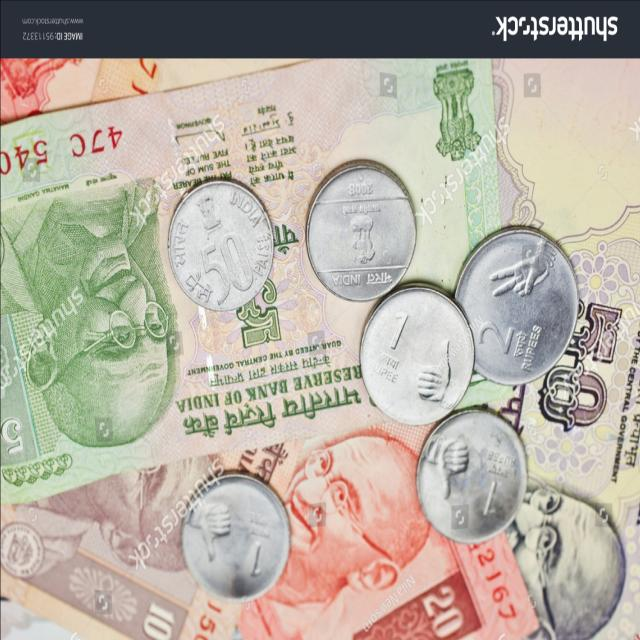5IndianRupees: (0, 73, 500, 466)
